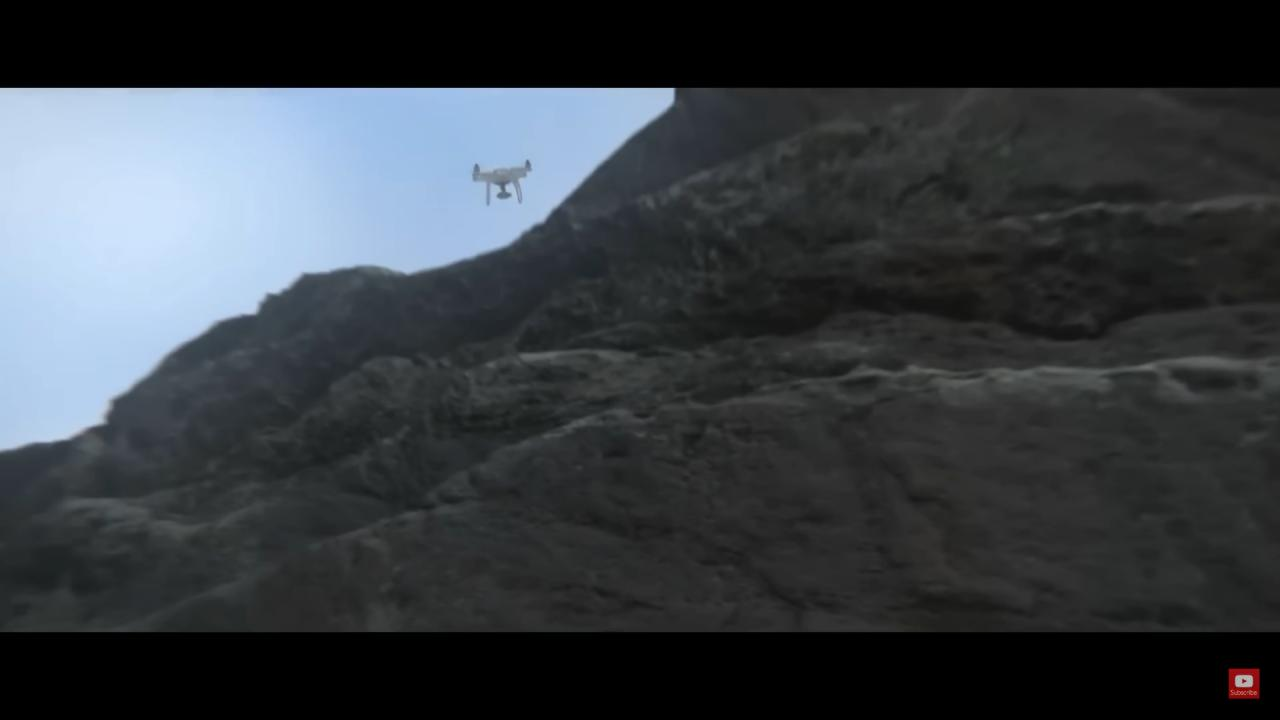Drone: (460, 149, 547, 216)
